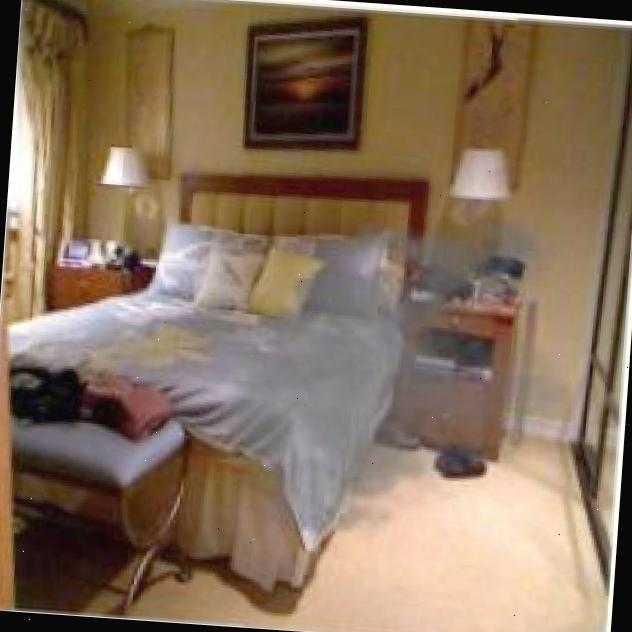smoke: (188, 188, 585, 560)
